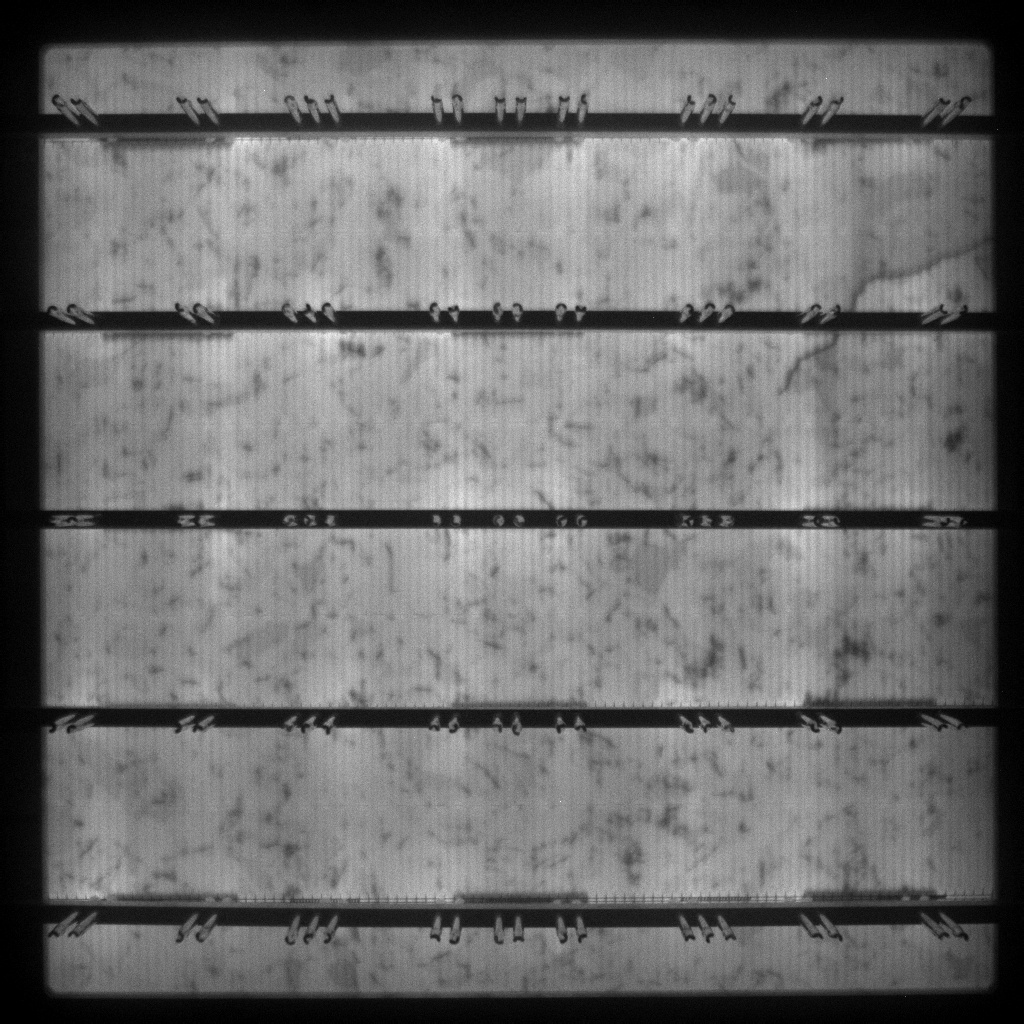crack: (846, 231, 988, 303), (775, 335, 846, 399)
